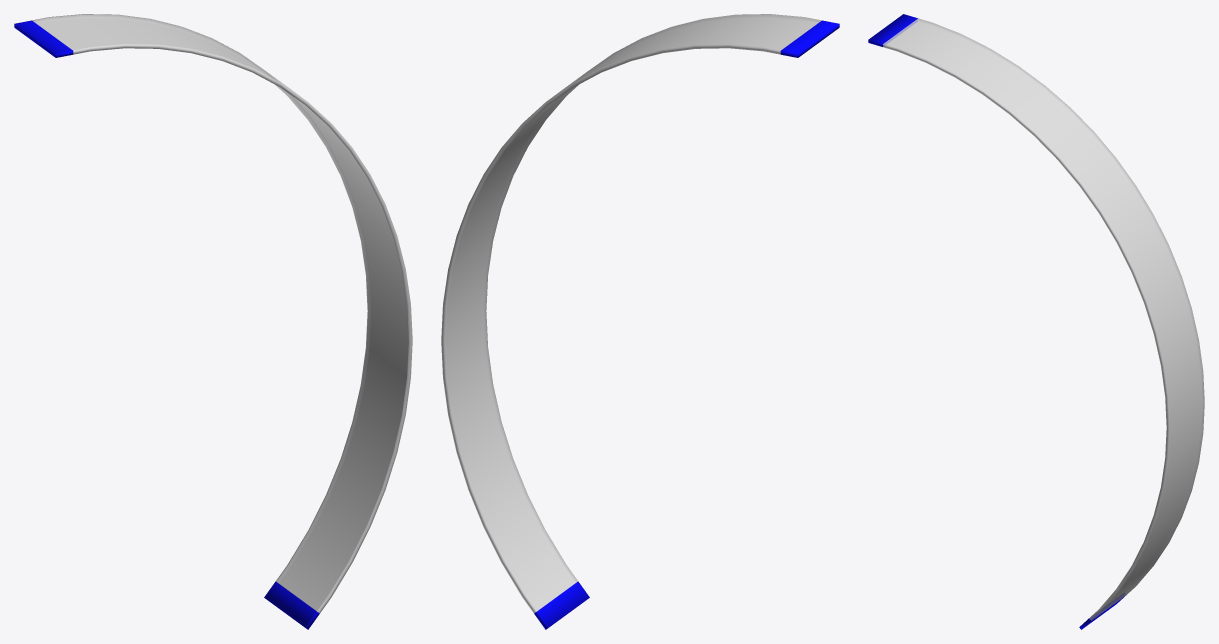
File: LongNote06.fbx
The picture shows the model from 3 angles, left to right: view 1: azimuth 30°, elevation 25°; view 2: azimuth 150°, elevation 25°; view 3: azimuth 330°, elevation 25°; orthographic projection. The views are drawn at different scales.
Parts seen in each view (by area): view 1: LongNote06; view 2: LongNote06; view 3: LongNote06.
Boxes of the visible parts, box(x1,y1,x2,y2) form: LongNote06: box(14, 14, 412, 629); LongNote06: box(441, 14, 839, 629); LongNote06: box(868, 14, 1204, 629).
Bounding box in the file's own units: 99.05 × 20 × 169.
